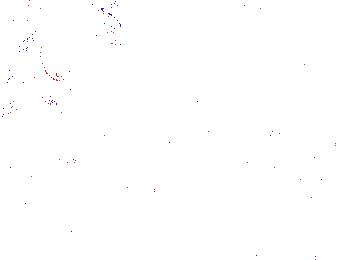moon jellyfish: (244, 6, 308, 104), (40, 8, 122, 83), (131, 17, 219, 64), (1, 17, 35, 94)
